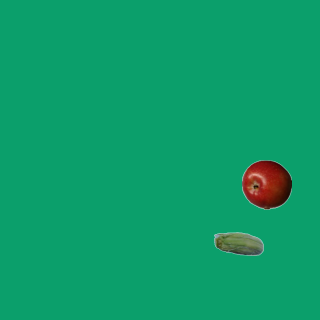Apple Braeburn: (241, 159, 291, 209)
Corn Husk: (213, 220, 263, 270)
